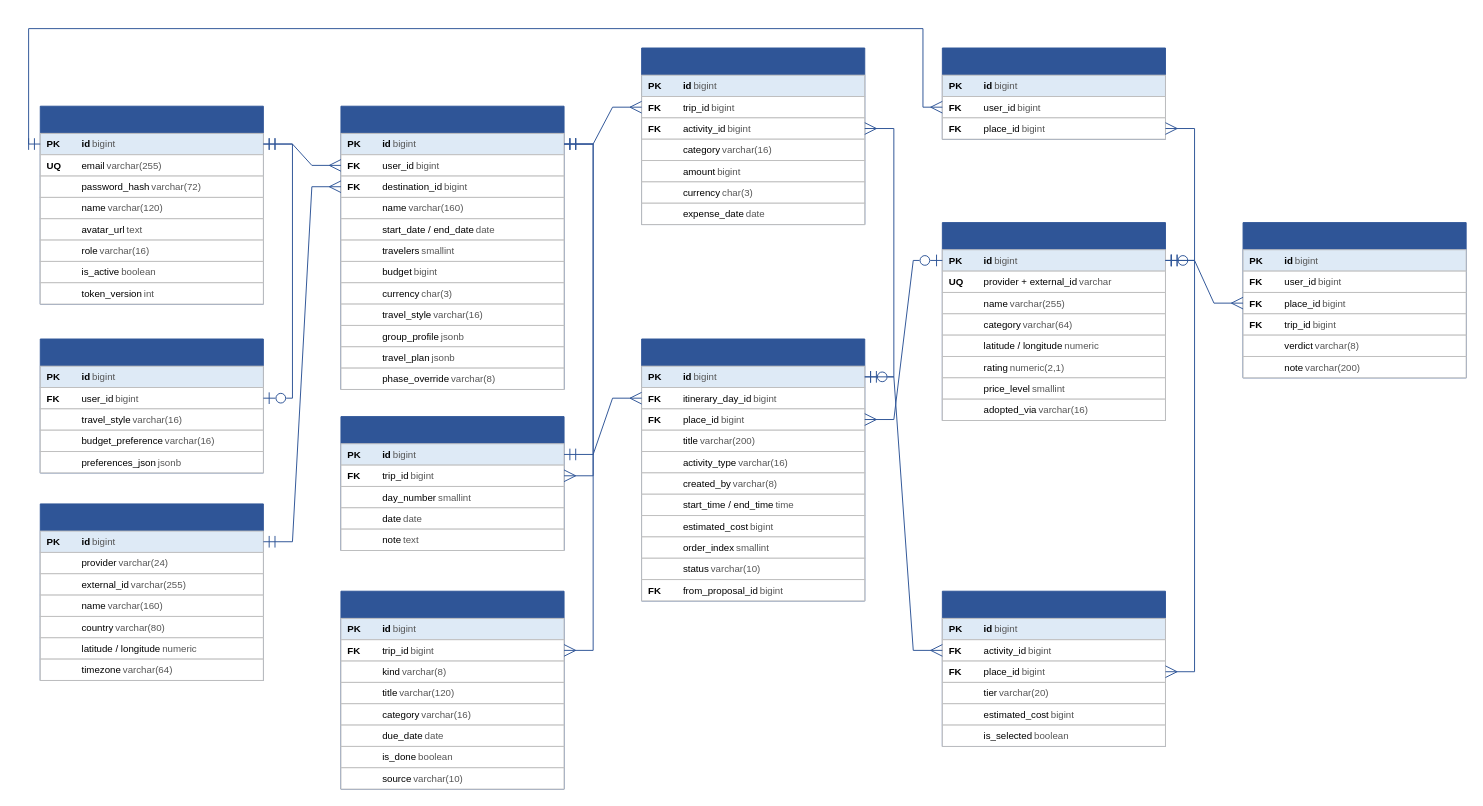
This 1483x806 diagram has some shape labels left out. The box of each missing label's shape, as (x1, y1, x2, y2) in pixels:
activities: (641, 338, 865, 601)
activity_alternatives: (941, 590, 1165, 746)
destinations: (39, 503, 263, 680)
expenses: (641, 47, 865, 225)
itinerary_days: (340, 416, 564, 550)
place_ratings: (1242, 222, 1466, 378)
places: (941, 222, 1165, 420)
saved_places: (941, 47, 1165, 139)
trip_checklist_items: (340, 590, 564, 789)
trips: (340, 105, 564, 389)
user_preferences: (39, 338, 263, 473)
users: (39, 105, 263, 304)
